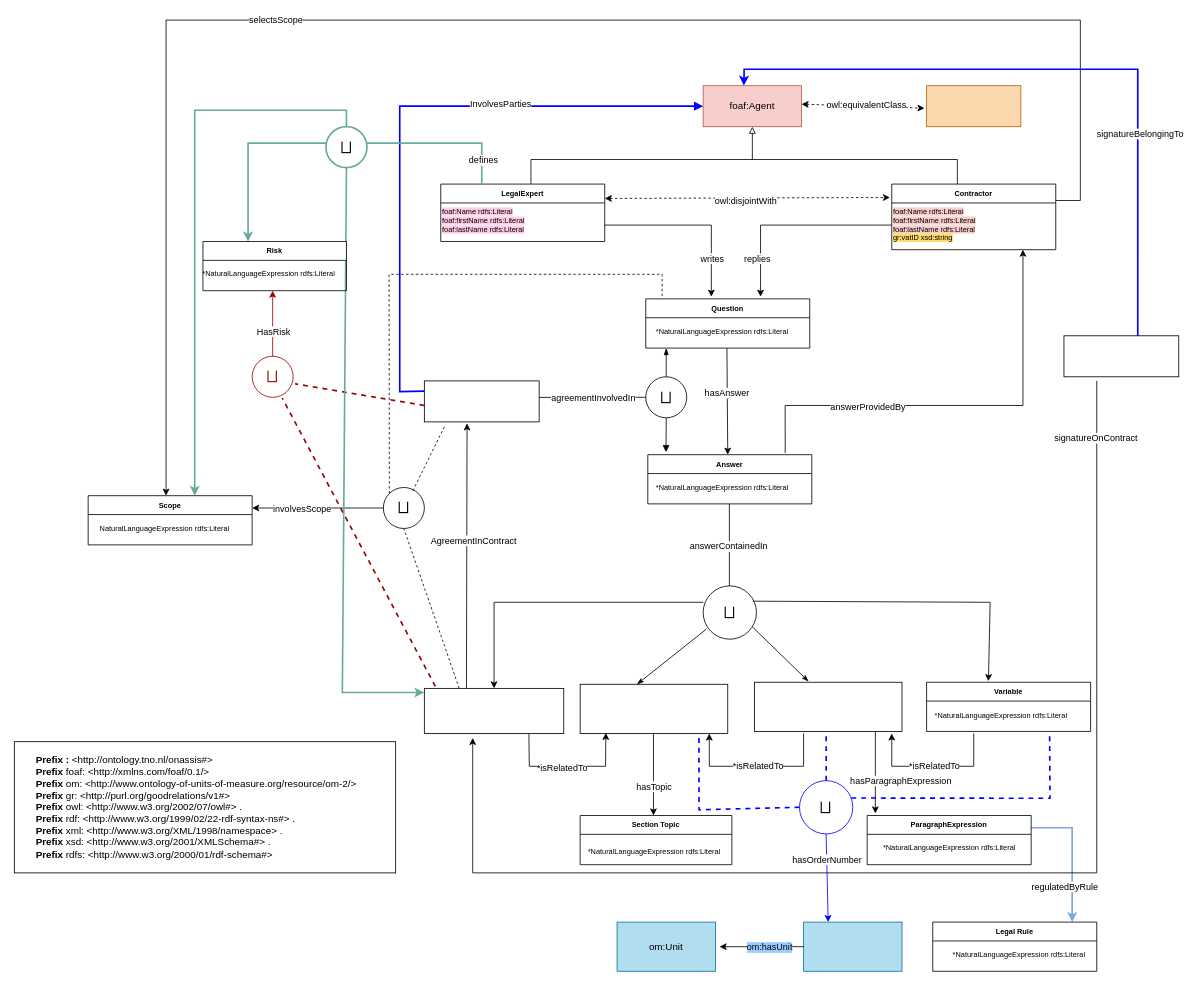
The diagram is 1198 pixels wide and 986 high, and some of its shapes have lost their labels. The shapes that lost their labels are listed below. From the top down, each one's centre as x and y in pixels, then its label:
At (973,106): "DCTerms:Agent".
At (1121,356): "Signature".
At (481,401): "Agreement".
At (494,710): "Contract".
At (653,708): "Section".
At (828,706): "Paragraph".
At (852,946): "om:Measure".
